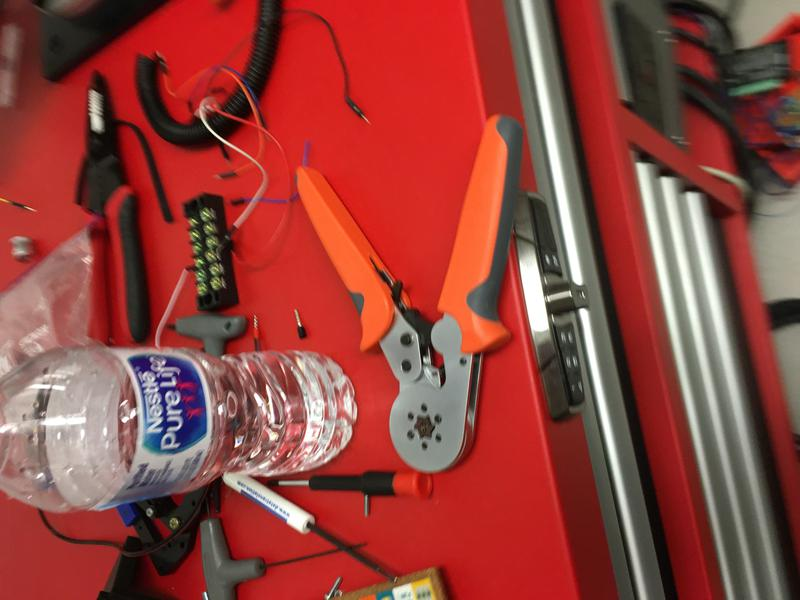bottle: (1, 346, 359, 516)
